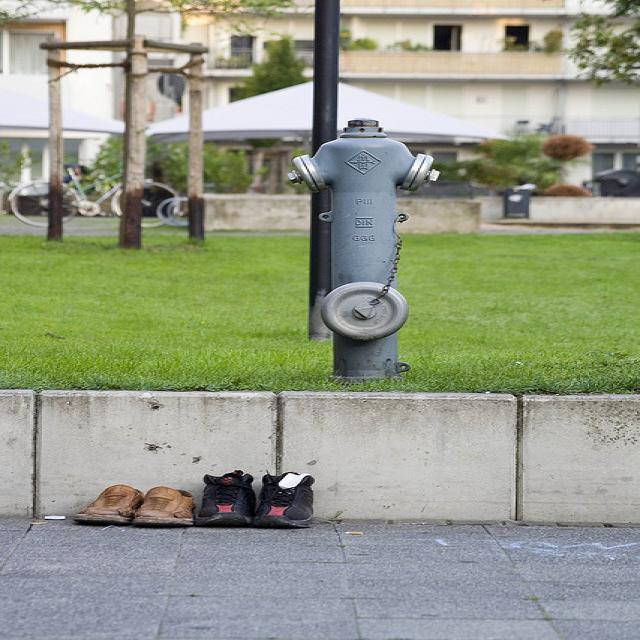fire_hydrant: (283, 117, 439, 386)
